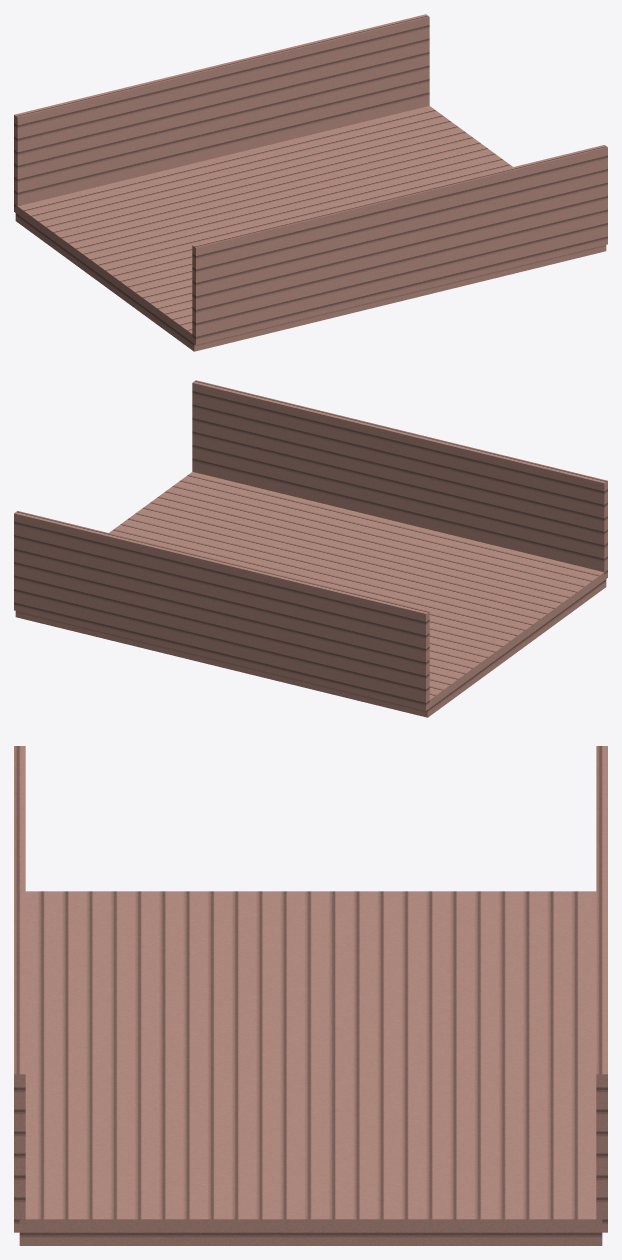
The model's file is deck_backyard.glb.
3 renders of one model, top to bottom at view 1: azimuth 30°, elevation 25°; view 2: azimuth 150°, elevation 25°; view 3: azimuth 270°, elevation 25°, orthographic. The views are drawn at different scales.
Visible parts, largest first — view 1: deck_backyard-col; view 2: deck_backyard-col; view 3: deck_backyard-col.
Boxes of the visible parts, left/top/right/bottom form: deck_backyard-col: left=14, top=14, right=607, bottom=351; deck_backyard-col: left=14, top=380, right=607, bottom=717; deck_backyard-col: left=14, top=746, right=607, bottom=1245.
Size of the model in its own units: 4 by 0.975 by 3.06.
1 material, 1 textured.
